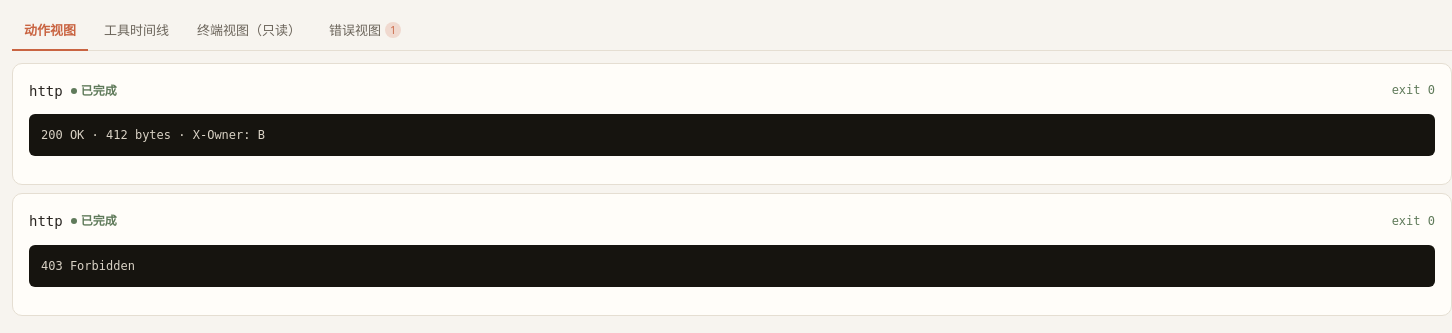
Test: ToolsPage（§16.18） › 四视图：Action/Timeline/Terminal/Error
expect the tab "动作视图" is shown: met, box [12,12,88,51]
Click the tab "终端视图（只读）" at [249, 31], box [185,12,313,51]
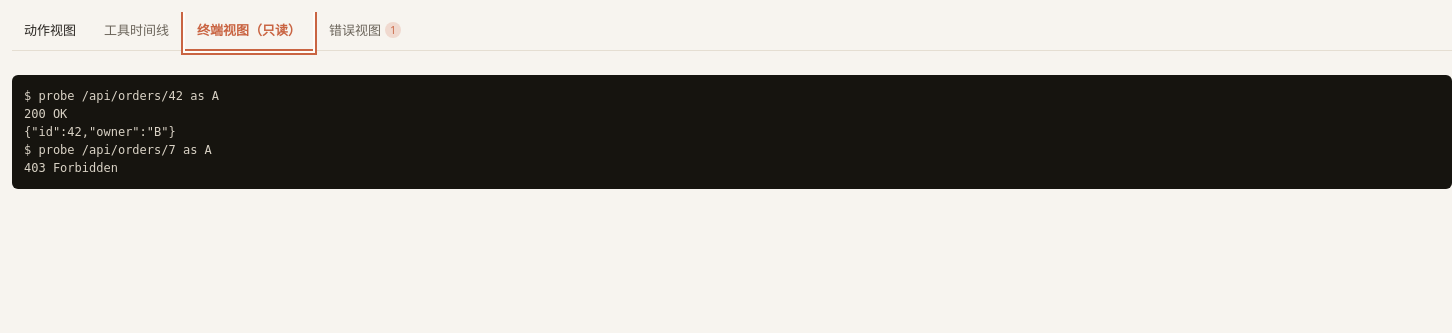
expect the text "probe /api/orders" is shown: met, box [24,89,219,175]
